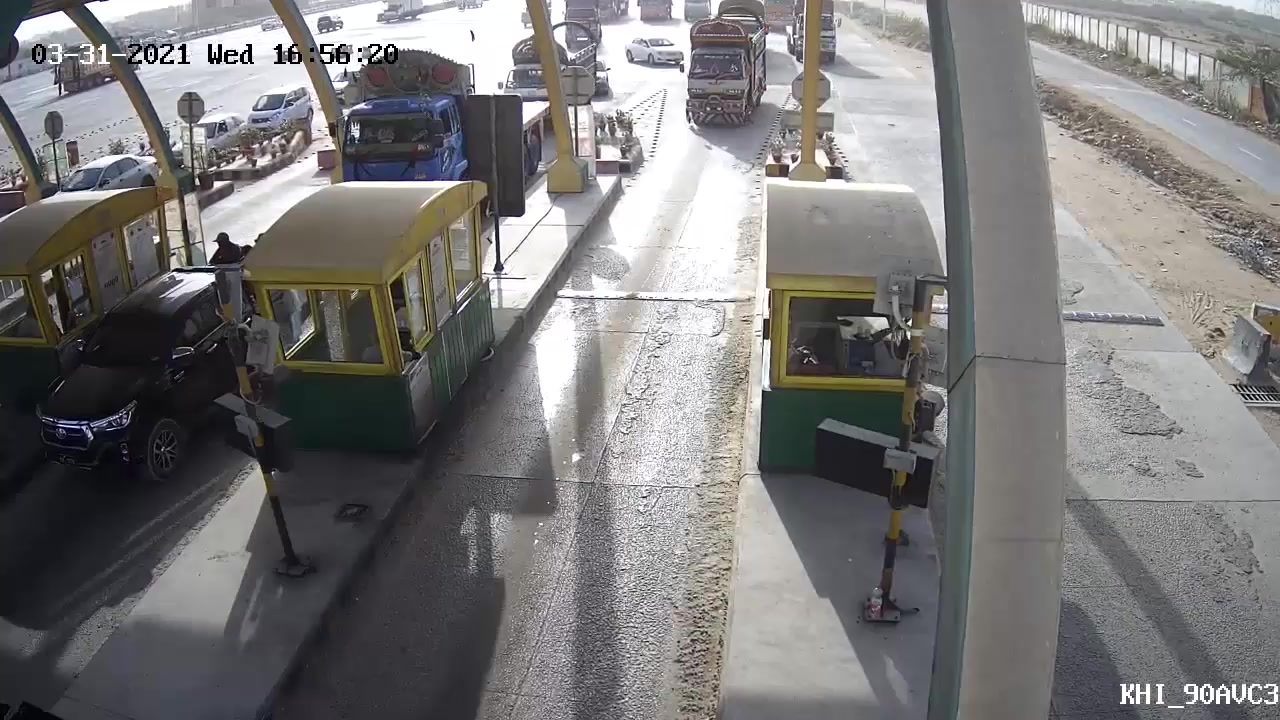F5: (670, 8, 776, 137)
